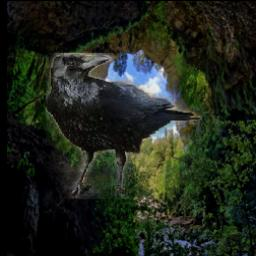Crow: (46, 54, 202, 200)
